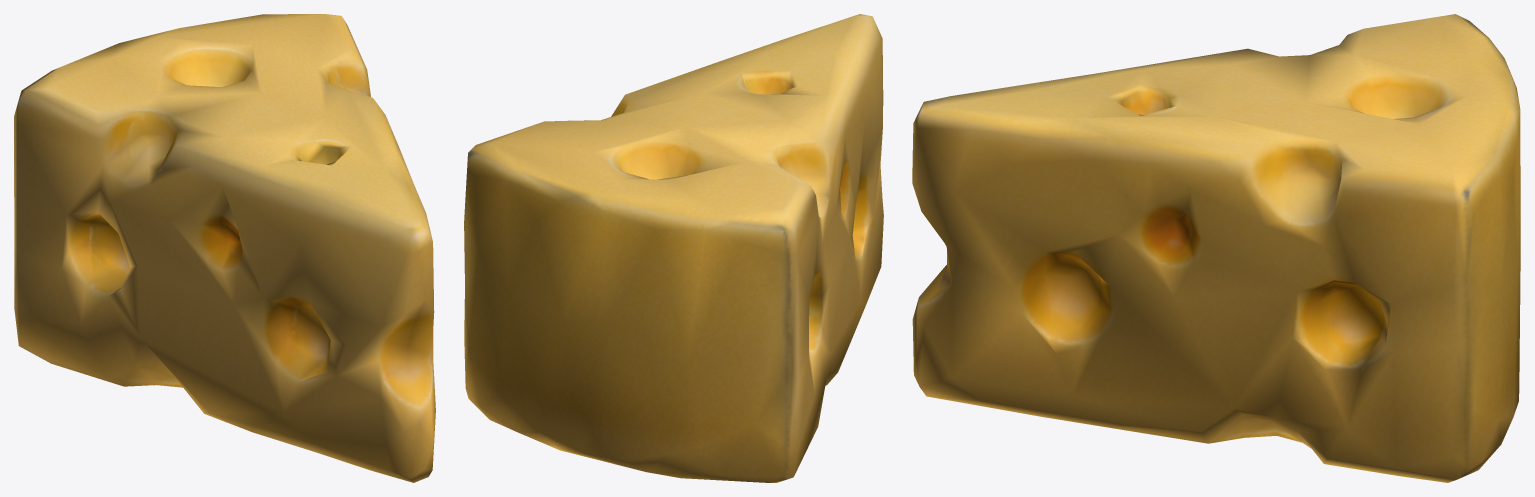
The model's file is Food_TomCheese.fbx.
The picture shows the model from 3 angles, left to right: view 1: azimuth 30°, elevation 25°; view 2: azimuth 150°, elevation 25°; view 3: azimuth 270°, elevation 25°; orthographic projection. The views are drawn at different scales.
Parts seen in each view (by area): view 1: Food_TomCheese; view 2: Food_TomCheese; view 3: Food_TomCheese.
Part boxes in pixels (left/top/right/bottom): Food_TomCheese: left=14, top=14, right=435, bottom=482; Food_TomCheese: left=464, top=14, right=883, bottom=482; Food_TomCheese: left=912, top=14, right=1520, bottom=482.
Size of the model in its own units: 0.1851 by 0.1466 by 0.26.
Materials: 1 (1 with a texture image).
